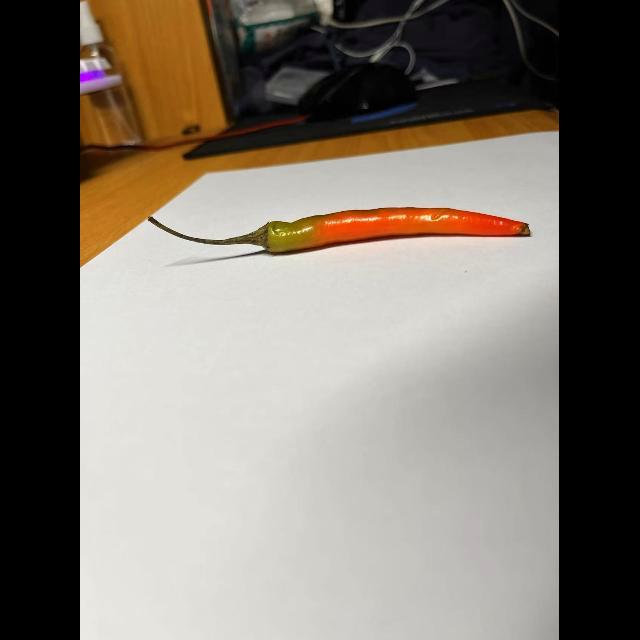chili_pepper: (148, 203, 536, 255)
